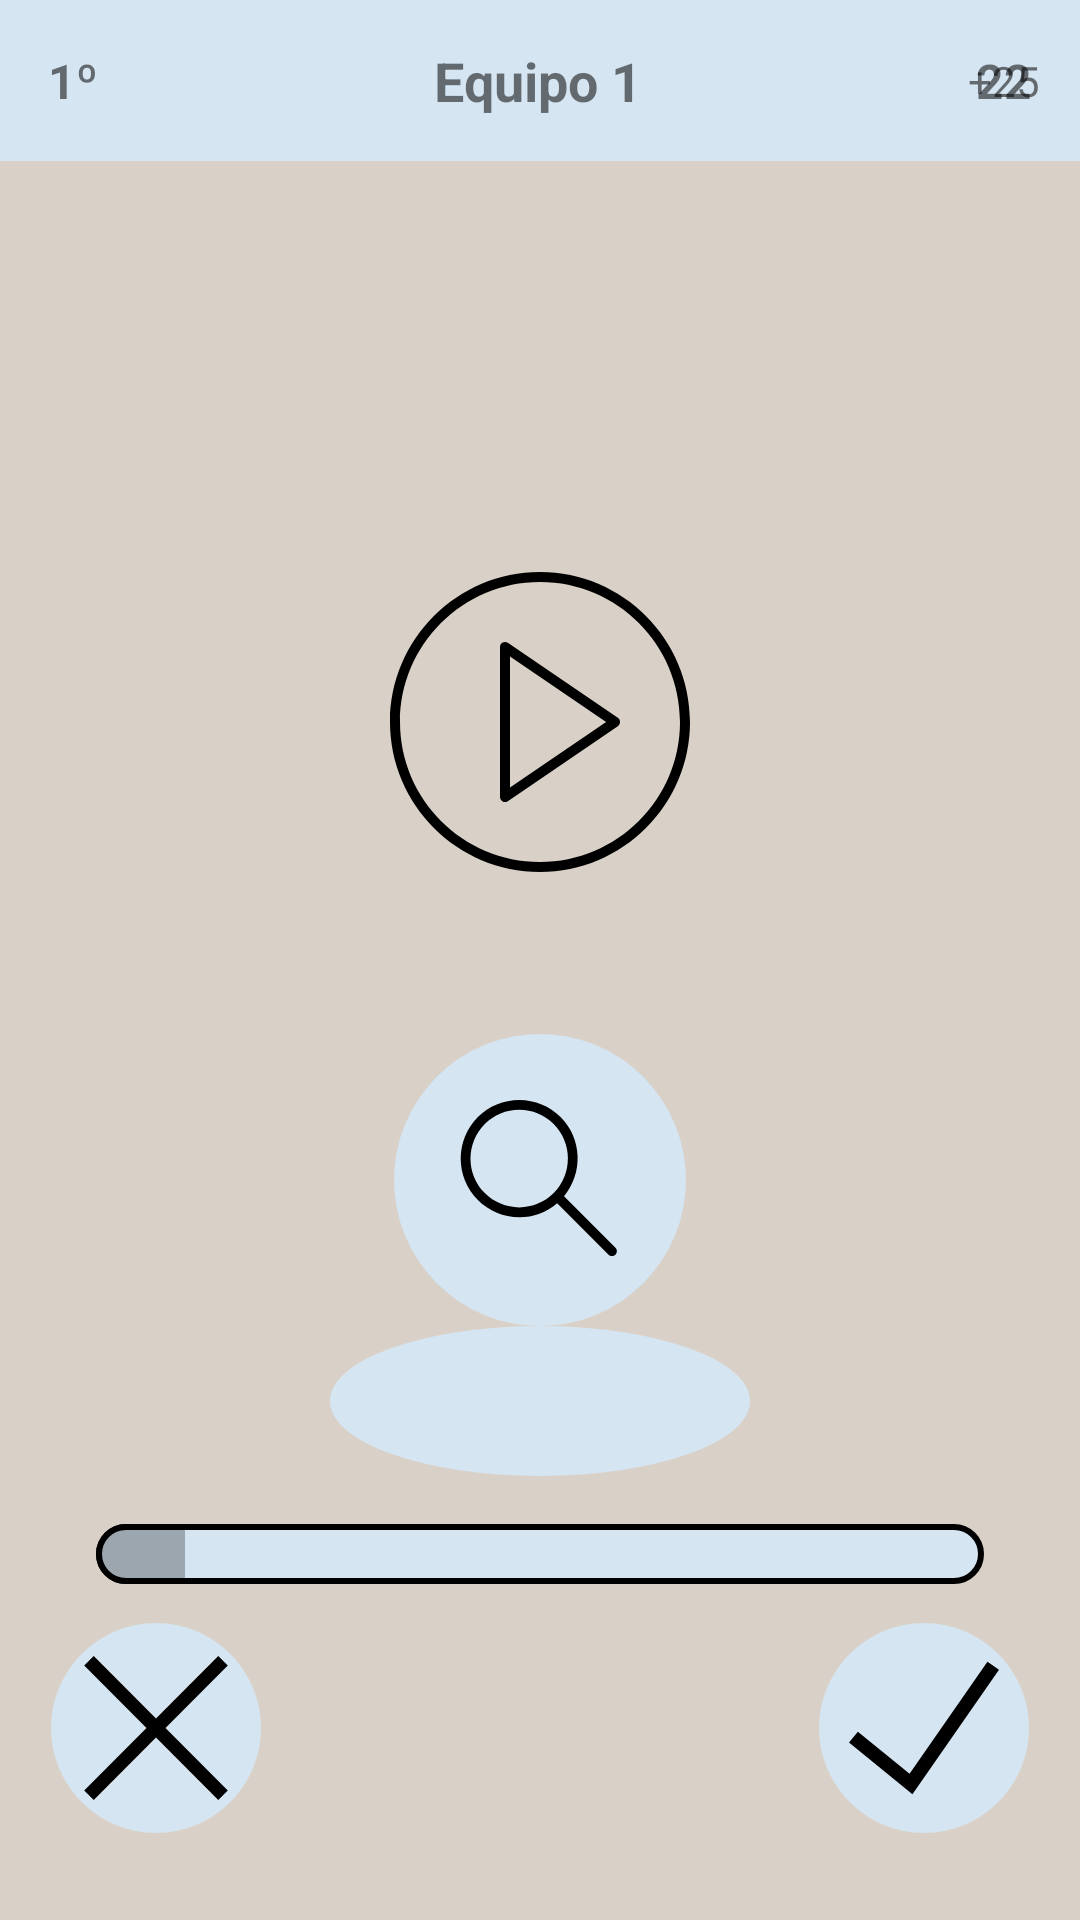

Icons on this 1080 × 1920 Android screen, each with its box as (x1, y1, x2, y2):
Play icon: (390, 572, 690, 872)
